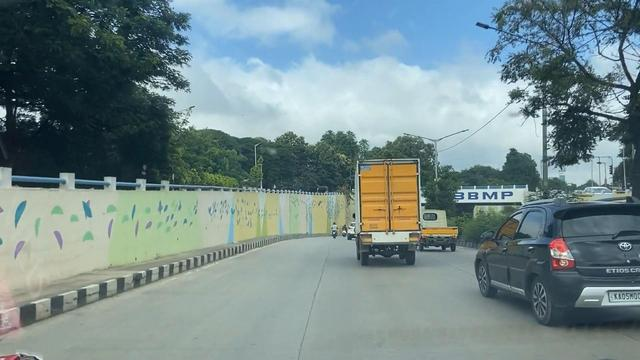HMV: (359, 162, 421, 264)
LMV: (476, 207, 640, 317)
